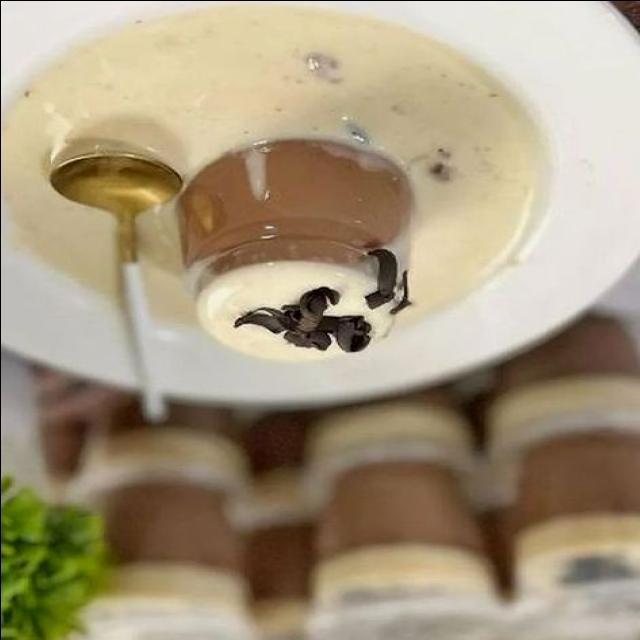puding: (177, 135, 417, 359)
